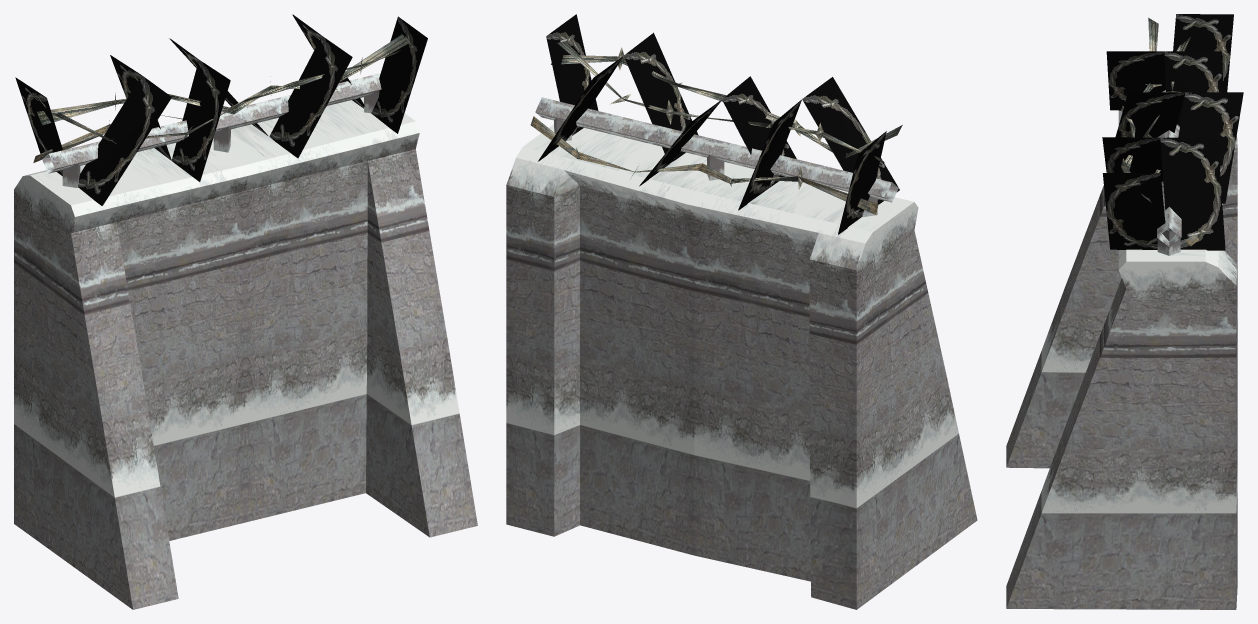
The model's file is C1SMWFWA10H.obj.
3 renders of one model, left to right at view 1: azimuth 30°, elevation 25°; view 2: azimuth 150°, elevation 25°; view 3: azimuth 270°, elevation 25°, orthographic. The views are drawn at different scales.
Parts seen in each view (by area): view 1: Node 0; view 2: Node 0; view 3: Node 0.
Part boxes in pixels (x1,y1,x2,y2): Node 0: (14,14,477,609); Node 0: (506,14,977,609); Node 0: (1006,14,1243,609).
Bounding box in the file's own units: 9.98 × 12.54 × 6.15.
Materials: 3 (3 with a texture image).
